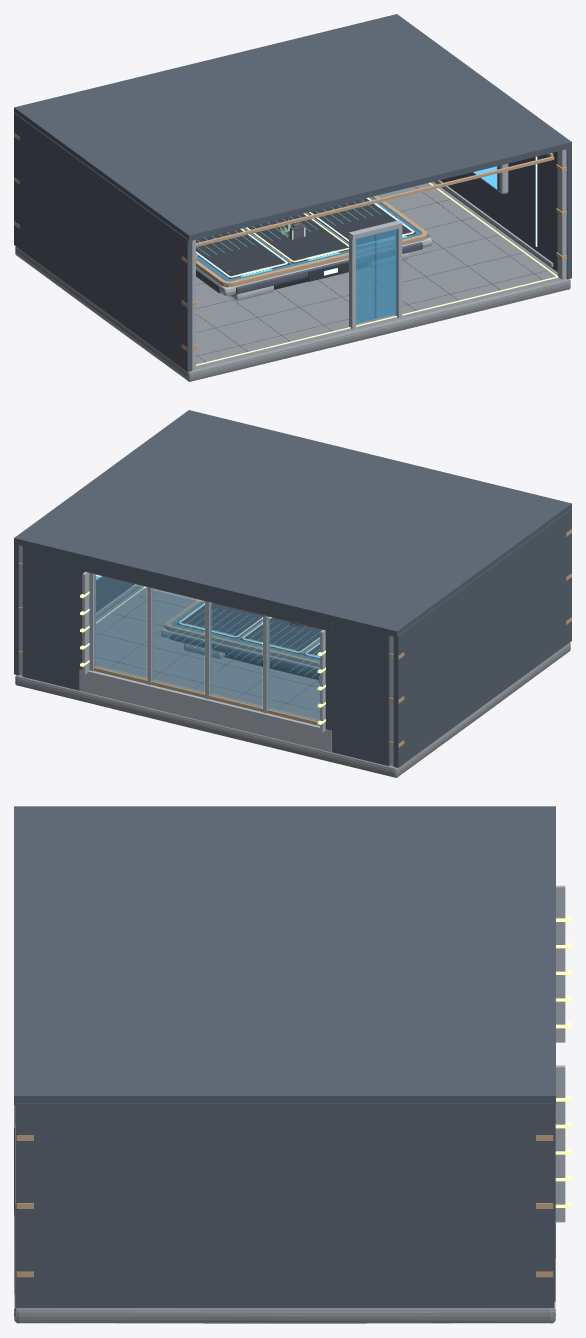
Rendered from ProjectSpark_ProGameRoom_COMPLETE_Showcase.glb.
3 renders of one model, top to bottom at view 1: azimuth 30°, elevation 25°; view 2: azimuth 150°, elevation 25°; view 3: azimuth 270°, elevation 25°, orthographic. The views are drawn at different scales.
Visible parts, largest first — view 1: PS_Studio_CeilingStructure, PS_Studio_SideWalls, PS_Studio_FloorSlab, PS_Table_ThreePreviewBays, PS_Studio_AccessDoorAssembly_Piece_0001, PS_Studio_TrimAndConduit, PS_Studio_CornerStructuralSupports, PS_Table_OuterBezelAndBumper, PS_Studio_AccessDoorAssembly, PS_Table_SideArmorPanels, PS_Studio_FloorSeams, PS_Studio_FloorPerimeterLighting (+3 smaller); view 2: PS_Studio_CeilingStructure, PS_Studio_SideWalls, PS_Studio_RearWallPanorama, PS_Studio_PanoramicGlass, PS_Studio_FloorSlab, PS_Studio_PanoramicWindowMullions, PS_Table_ThreePreviewBays, PS_Studio_WindowExternalLightBaffles, PS_Studio_CornerStructuralSupports, PS_Table_SideArmorPanels, PS_Table_OuterBezelAndBumper, PS_Table_MainStructuralPedestal (+2 smaller); view 3: PS_Studio_CeilingStructure, PS_Studio_SideWalls, PS_Studio_FloorSlab, PS_Studio_WindowExternalLightBaffles, PS_Studio_CornerStructuralSupports.
Boxes of the visible parts, <box> form: PS_Studio_CeilingStructure: <box>14,14,571,241</box>; PS_Studio_SideWalls: <box>14,112,571,371</box>; PS_Studio_FloorSlab: <box>15,181,570,381</box>; PS_Table_ThreePreviewBays: <box>196,198,416,278</box>; PS_Studio_AccessDoorAssembly_Piece_0001: <box>356,229,396,323</box>; PS_Studio_TrimAndConduit: <box>196,153,554,266</box>; PS_Studio_CornerStructuralSupports: <box>14,133,566,369</box>; PS_Table_OuterBezelAndBumper: <box>196,195,427,287</box>; PS_Studio_AccessDoorAssembly: <box>349,220,402,329</box>; PS_Table_SideArmorPanels: <box>196,234,429,294</box>; PS_Studio_FloorSeams: <box>196,186,547,361</box>; PS_Studio_FloorPerimeterLighting: <box>196,182,558,365</box>; PS_Studio_CeilingStructure: <box>14,410,571,637</box>; PS_Studio_SideWalls: <box>14,508,571,767</box>; PS_Studio_RearWallPanorama: <box>22,546,389,766</box>; PS_Studio_PanoramicGlass: <box>94,575,320,721</box>; PS_Studio_FloorSlab: <box>15,585,570,777</box>; PS_Studio_PanoramicWindowMullions: <box>89,572,322,725</box>; PS_Table_ThreePreviewBays: <box>177,603,320,658</box>; PS_Studio_WindowExternalLightBaffles: <box>80,571,325,732</box>; PS_Studio_CornerStructuralSupports: <box>19,529,571,765</box>; PS_Table_SideArmorPanels: <box>163,625,319,675</box>; PS_Table_OuterBezelAndBumper: <box>165,599,319,667</box>; PS_Table_MainStructuralPedestal: <box>184,643,319,683</box>; PS_Studio_CeilingStructure: <box>14,806,555,1104</box>; PS_Studio_SideWalls: <box>16,1103,553,1308</box>; PS_Studio_FloorSlab: <box>14,1105,555,1323</box>; PS_Studio_WindowExternalLightBaffles: <box>555,885,571,1222</box>; PS_Studio_CornerStructuralSupports: <box>16,1135,553,1277</box>.
Size of the model in its own units: 18.28 by 6.73 by 14.82.
